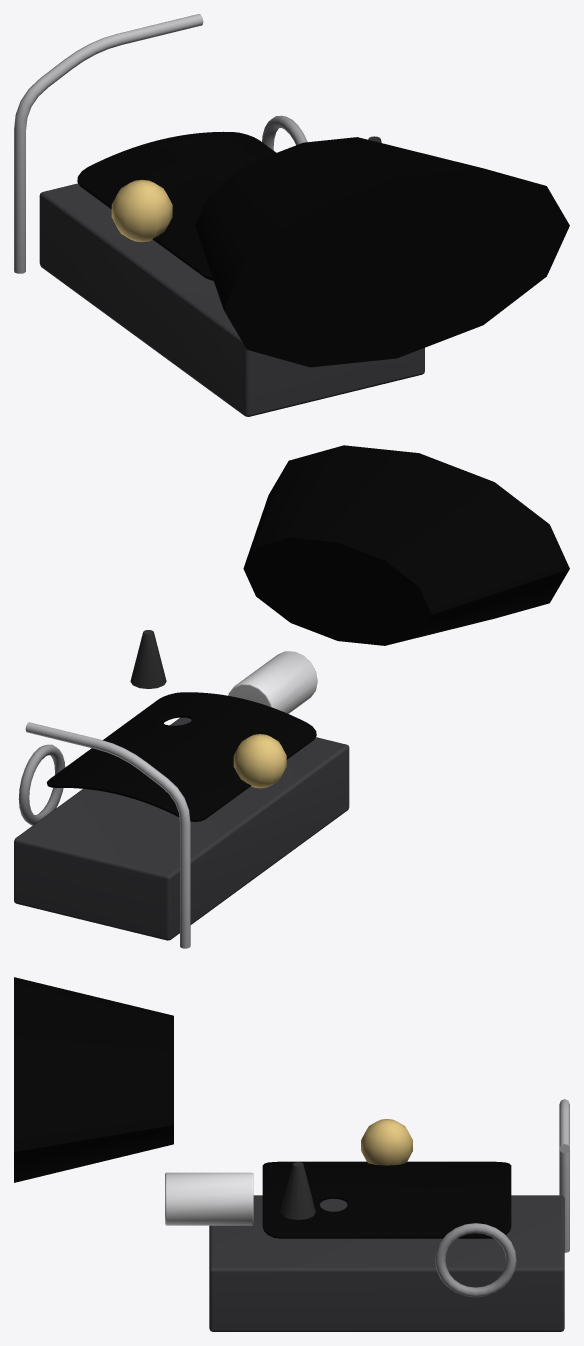
File: kit.glb
The picture shows the model from 3 angles, top to bottom: view 1: azimuth 30°, elevation 25°; view 2: azimuth 150°, elevation 25°; view 3: azimuth 270°, elevation 25°; orthographic projection. The views are drawn at different scales.
Parts seen in each view (by area): view 1: body; view 2: body; view 3: body.
Part boxes in pixels (box(x1,y1,x2,y2)): body: box(14, 14, 569, 416); body: box(14, 445, 569, 948); body: box(14, 977, 569, 1331).
Bounding box in the file's own units: 1.92 × 1.68 × 3.13.
8 materials, 2 textured.
